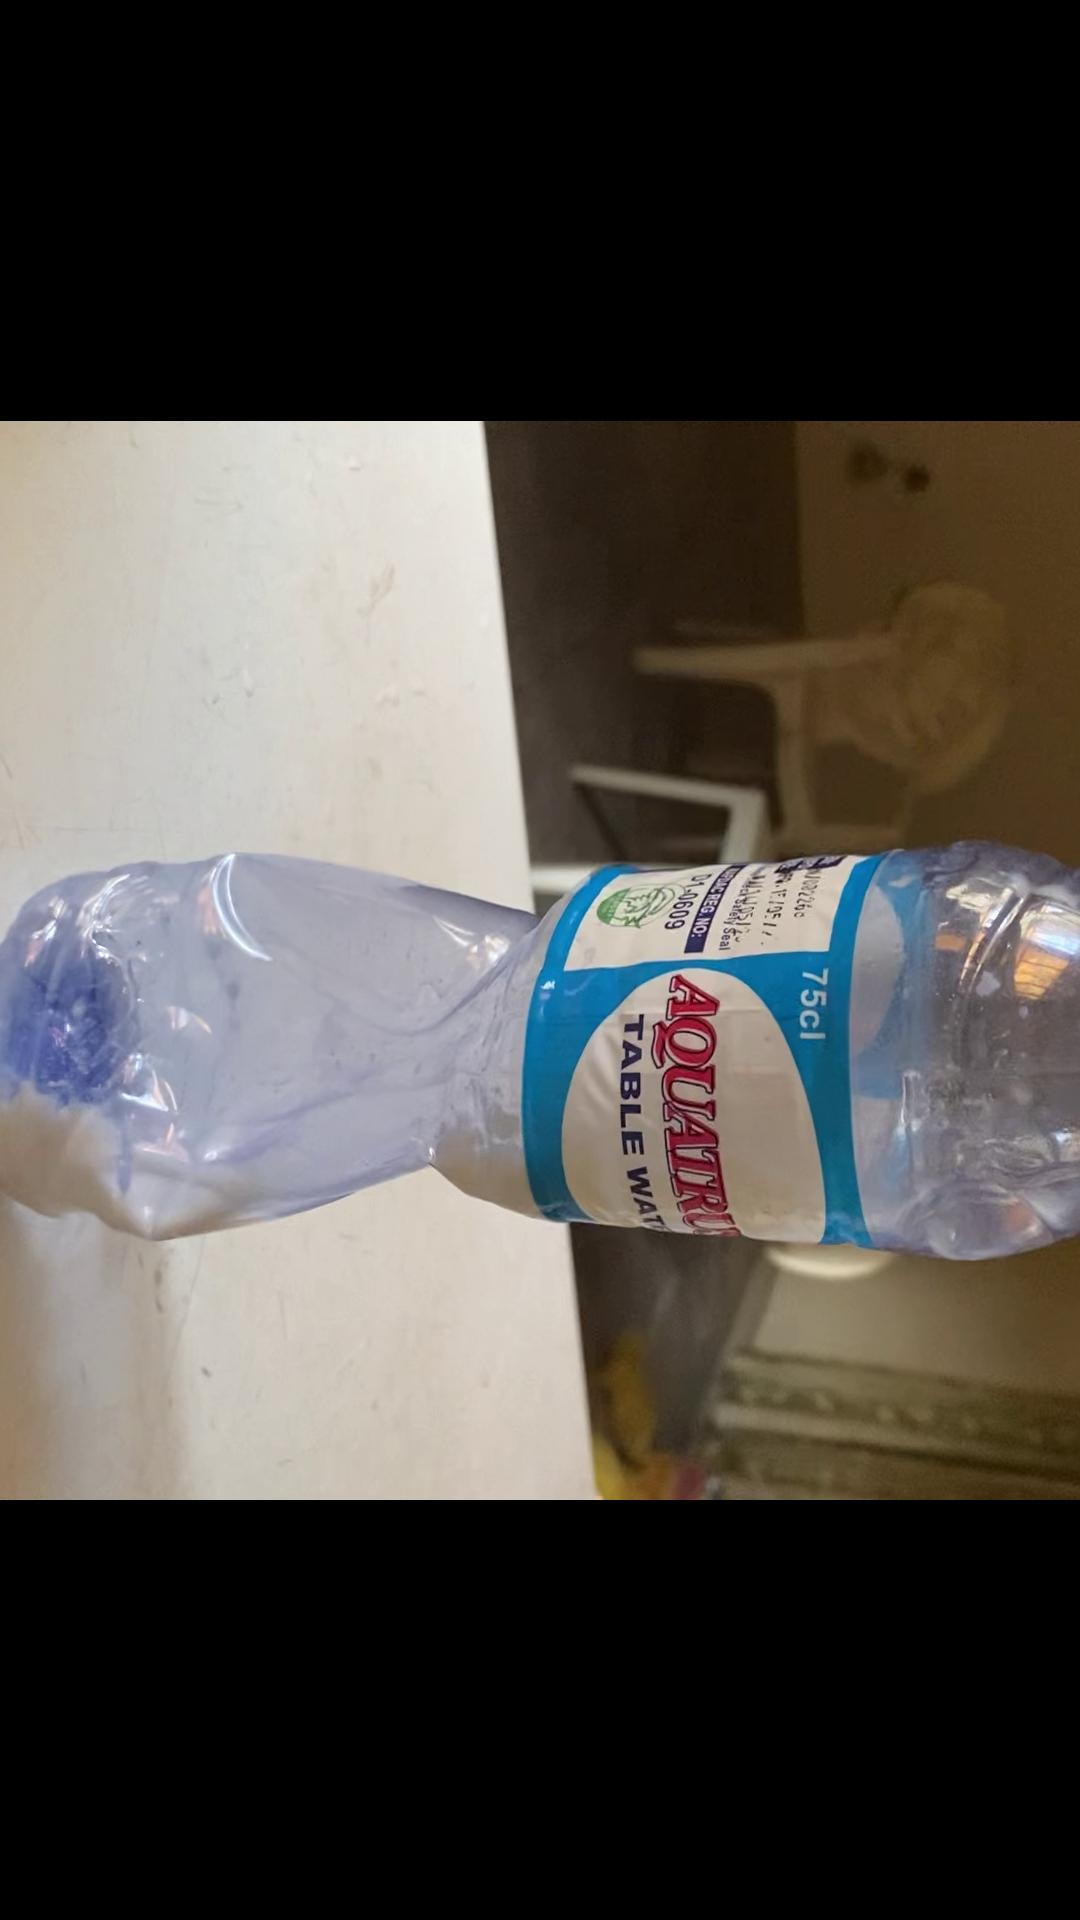crumbled: (0, 833, 1080, 1274)
label: (531, 855, 873, 1234)
